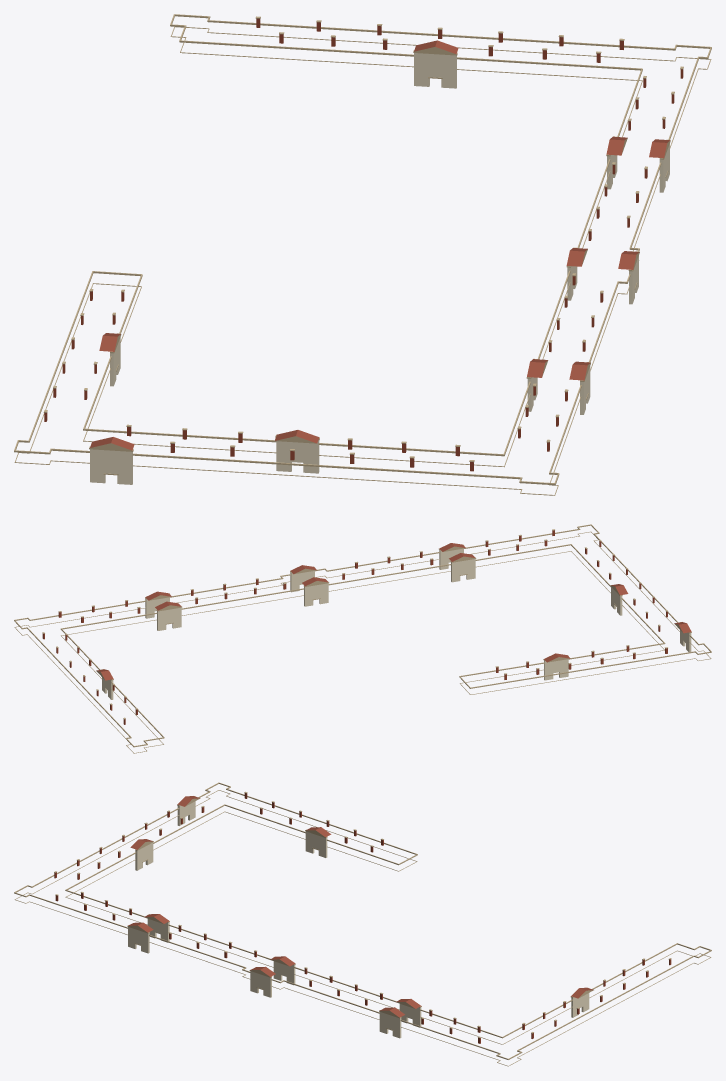
The model's file is kisla.glb.
3 views of the same model, one above another, from view 1: azimuth 30°, elevation 25°; view 2: azimuth 150°, elevation 25°; view 3: azimuth 270°, elevation 25° (orthographic). The views are drawn at different scales.
Parts seen in each view (by area): view 1: kisla; view 2: kisla; view 3: kisla.
Part boxes in pixels (x1,y1,x2,y2): kisla: (14,14,711,495); kisla: (14,524,711,753); kisla: (14,782,711,1066).
Size of the model in its own units: 377 by 15.7 by 402.
